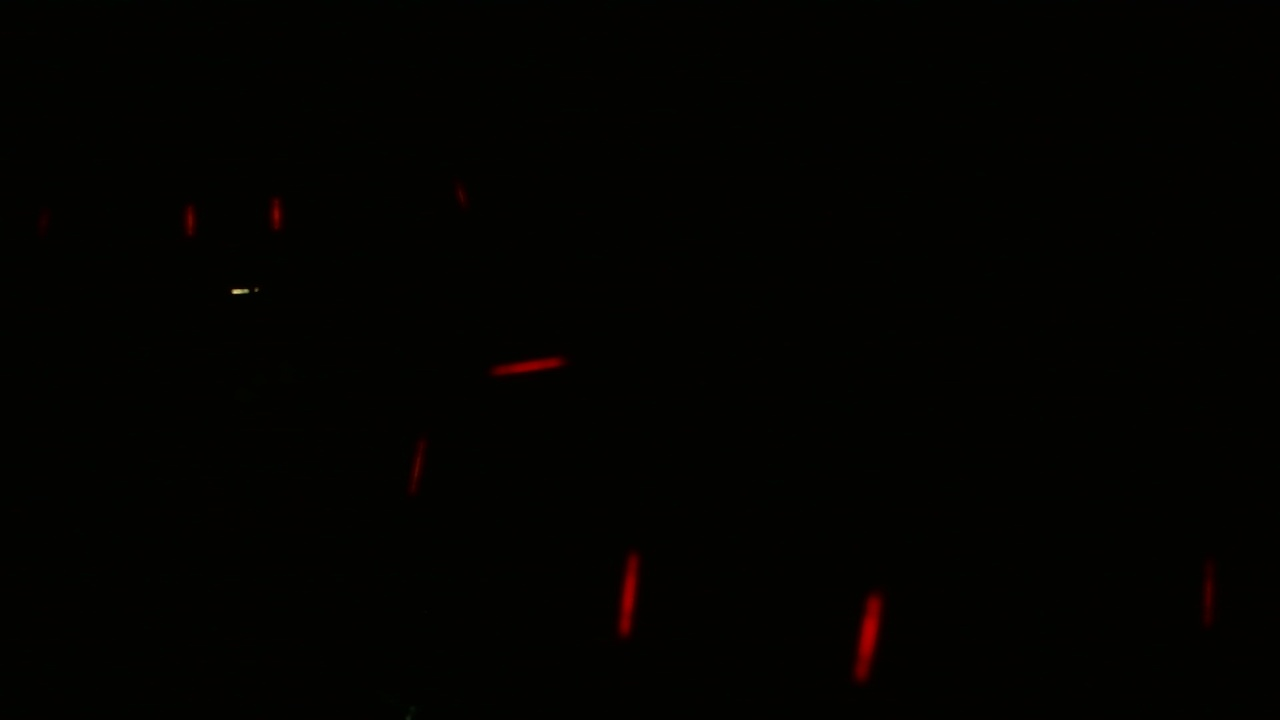pair1: (610, 542, 886, 678), (177, 188, 285, 240)
